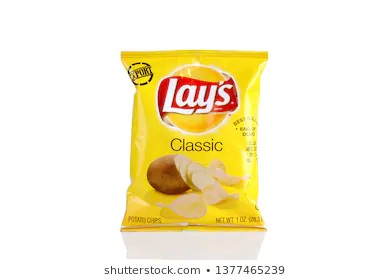lays-med: (118, 48, 269, 230)
